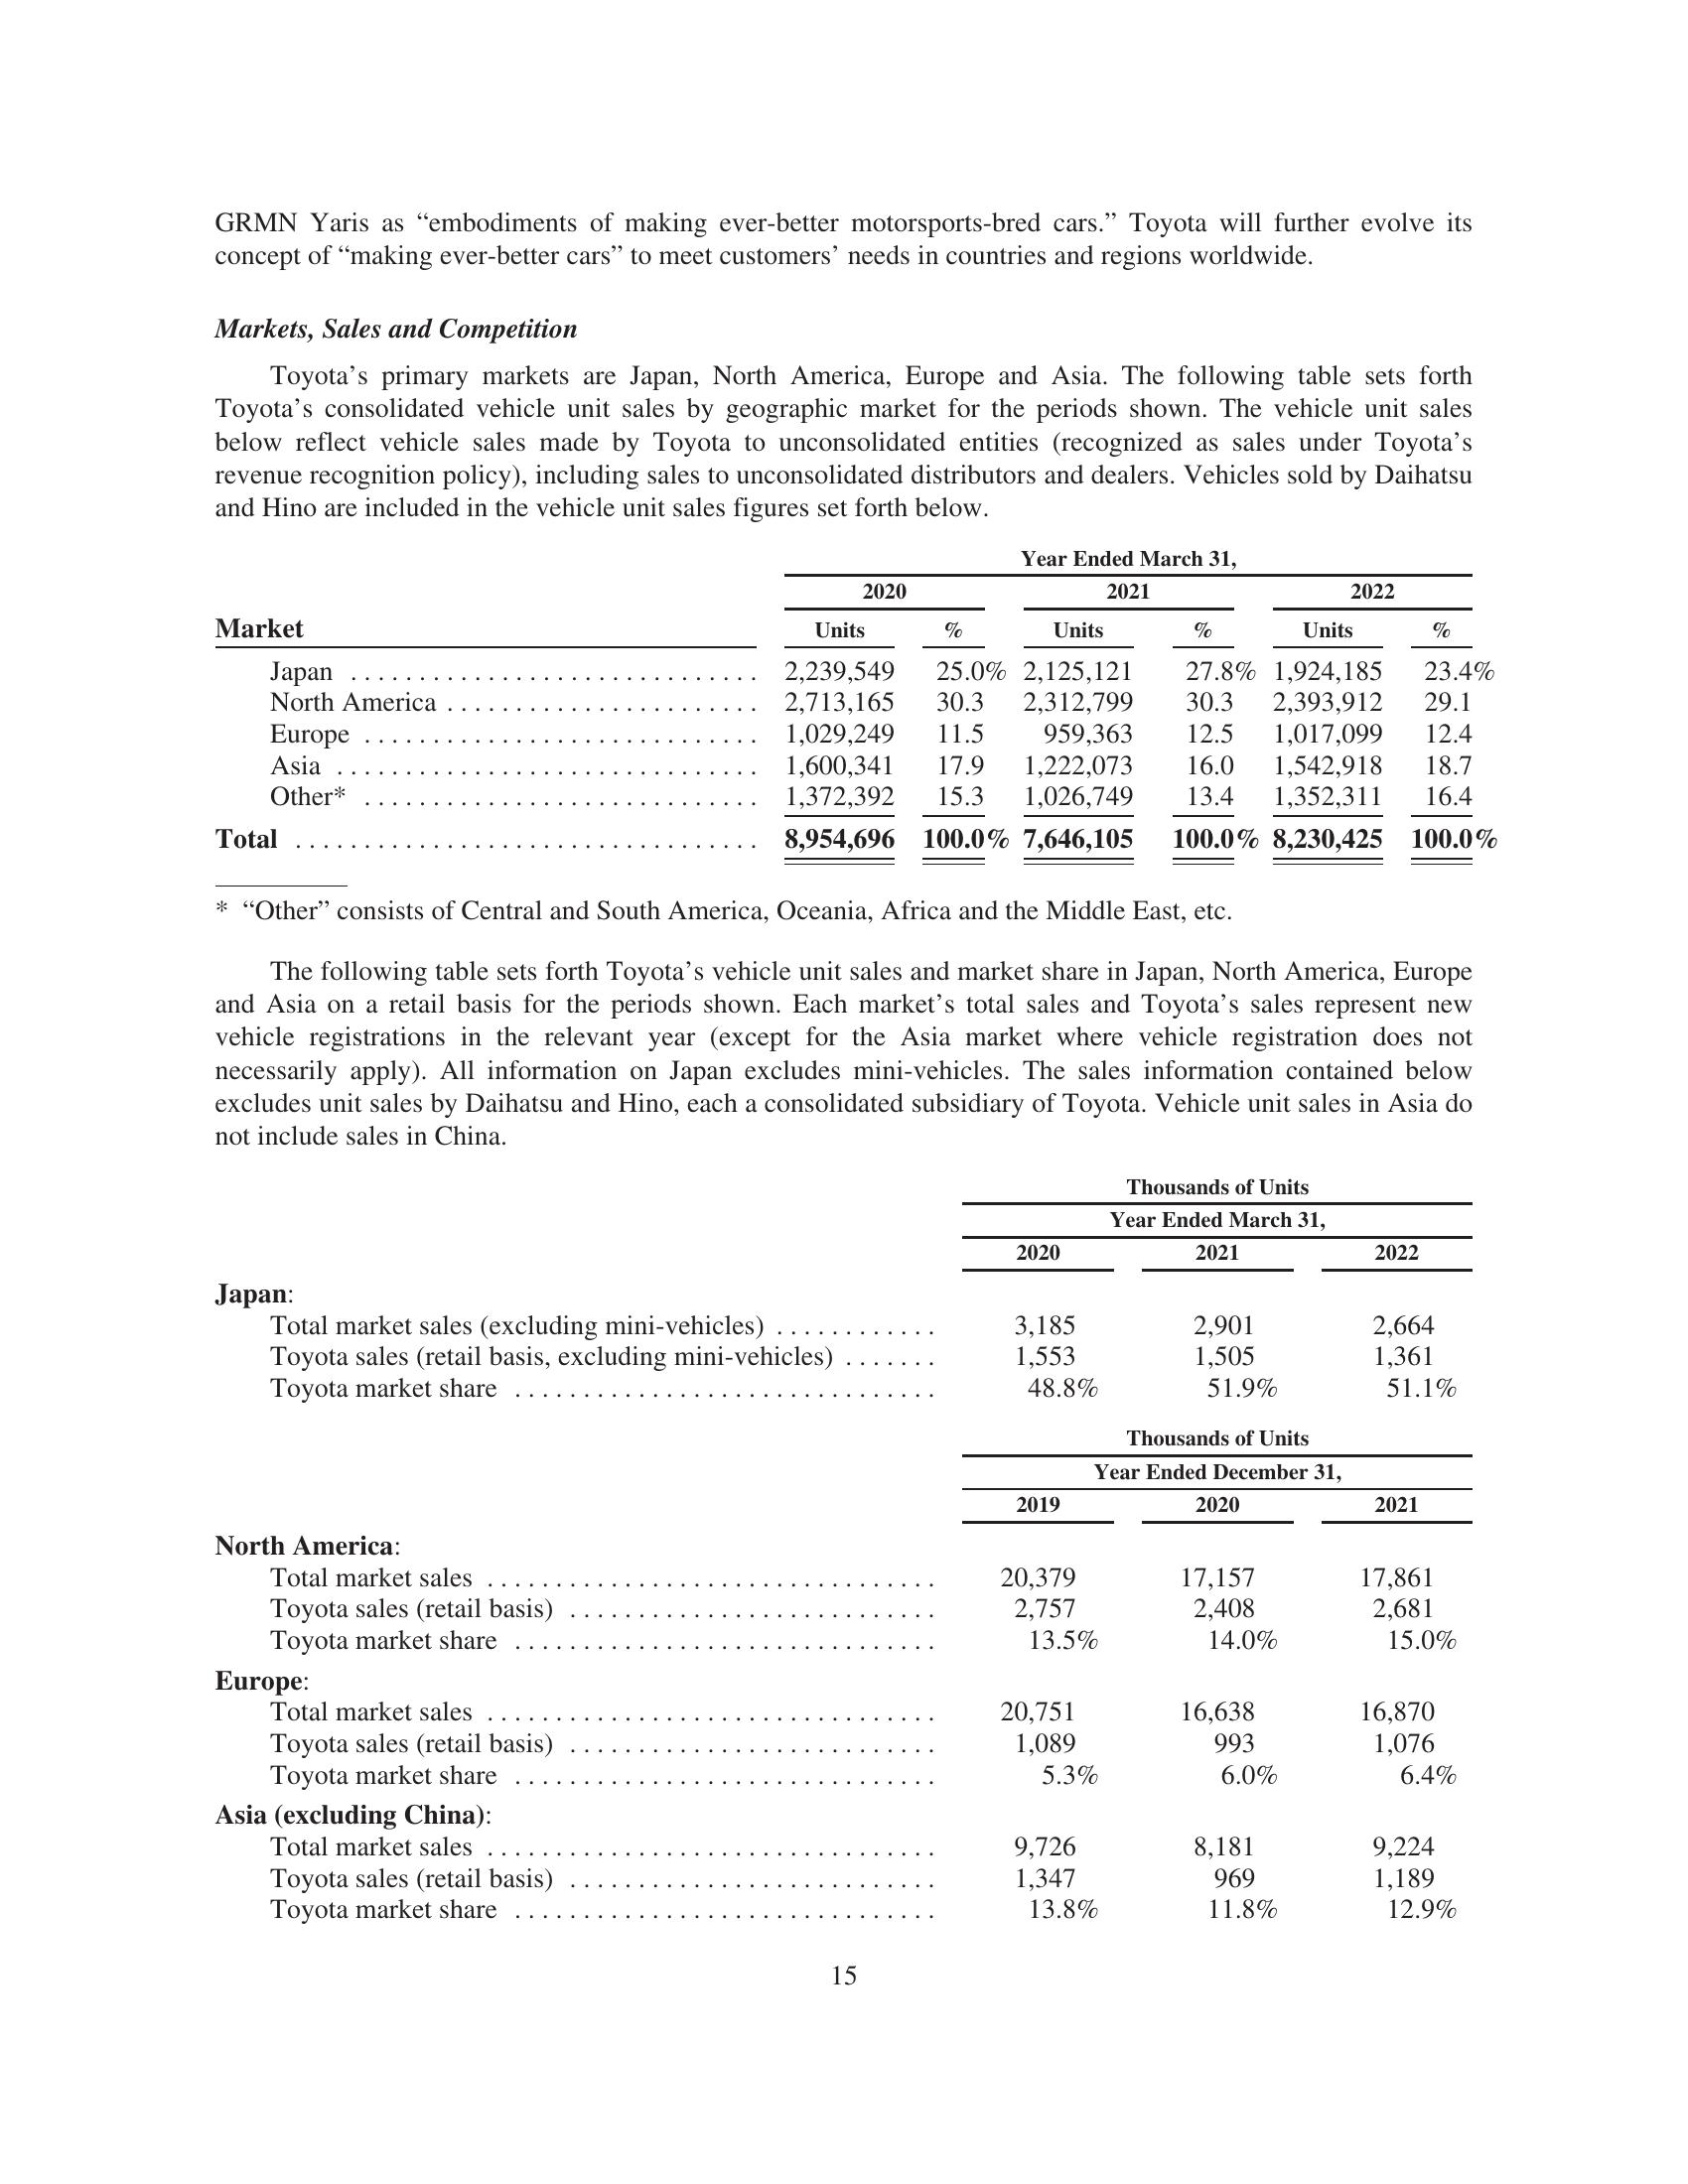Footer: (0, 1954, 1688, 2184)
Header: (0, 0, 1688, 195)
Table: (167, 1422, 1482, 1938), (133, 519, 1504, 886), (160, 1158, 1495, 1413)
